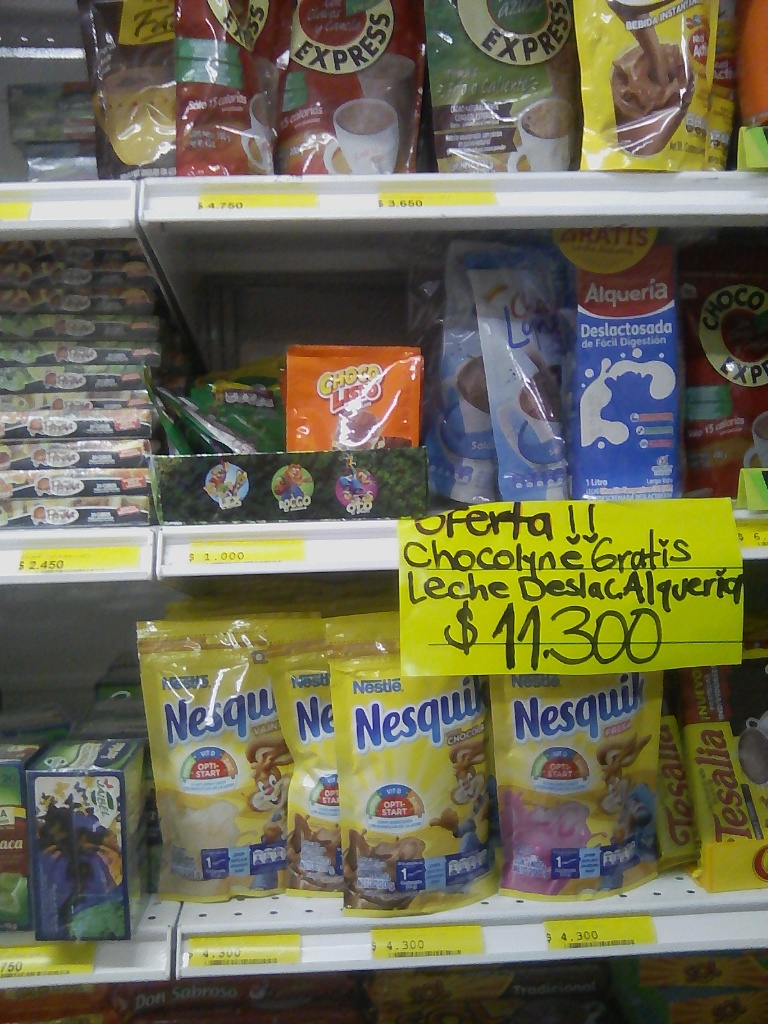COL0170103SOB02000: (288, 344, 419, 460)
COL0170303DYP20000: (325, 609, 514, 923)
COL0170305DYP20000: (496, 651, 656, 902)
COL0170306DYP20000: (133, 616, 306, 909)
